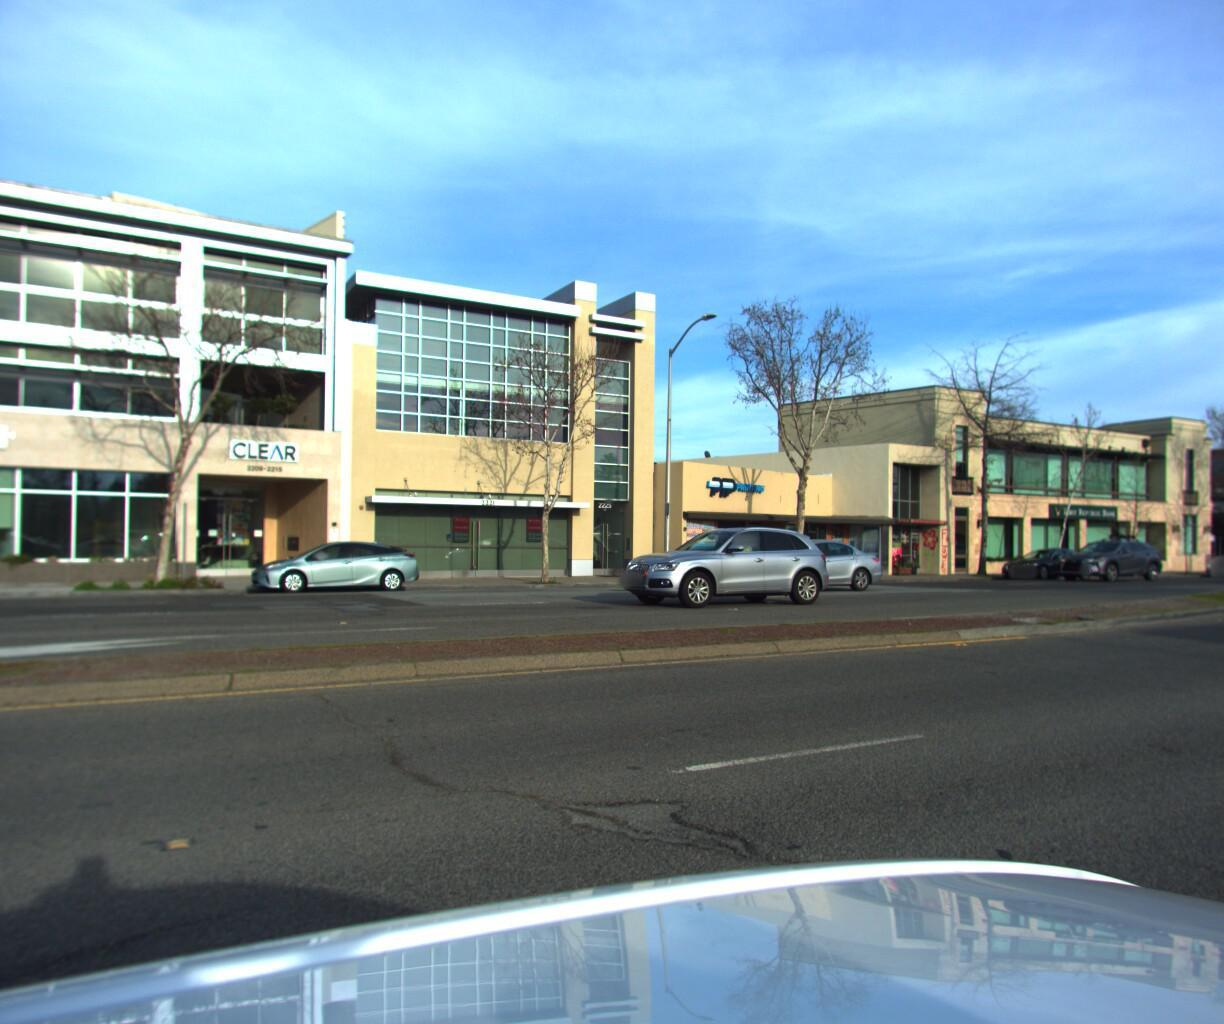car: (607, 521, 834, 608), (712, 528, 890, 594), (241, 539, 424, 596), (1045, 532, 1162, 577), (993, 544, 1095, 579), (1194, 544, 1224, 575)
